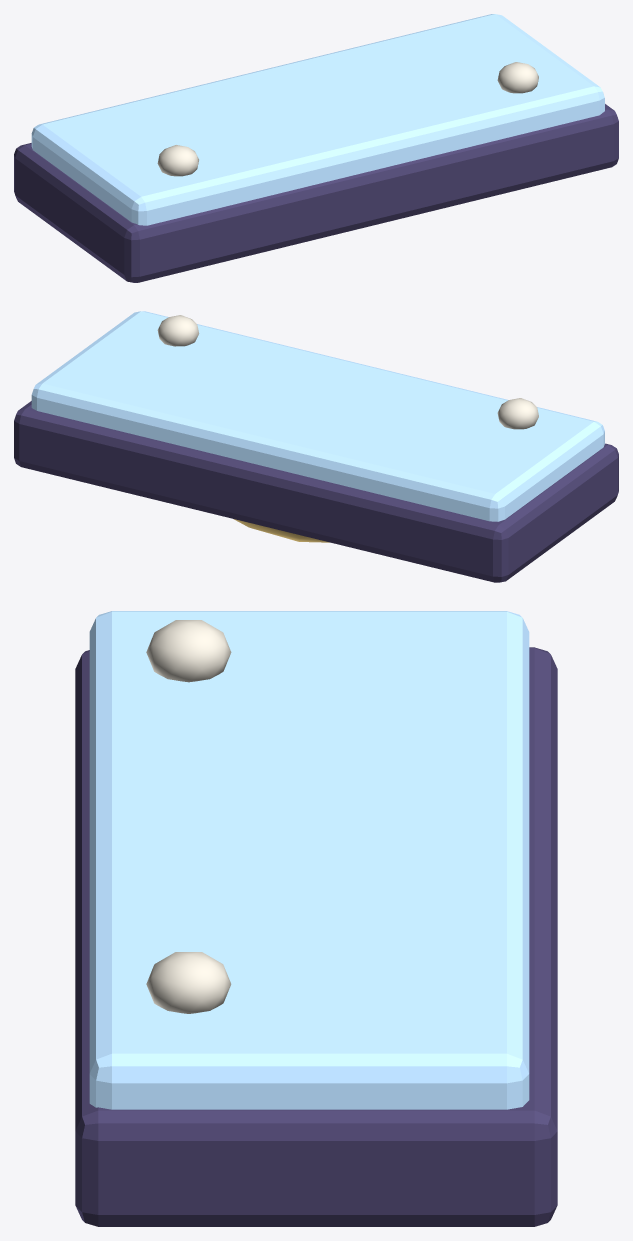
File: pearl_music_bar_5.glb
The picture shows the model from 3 angles, top to bottom: view 1: azimuth 30°, elevation 25°; view 2: azimuth 150°, elevation 25°; view 3: azimuth 270°, elevation 25°; orthographic projection. The views are drawn at different scales.
Visible parts, largest first — view 1: pearl_music_bar_5.001; view 2: pearl_music_bar_5.001; view 3: pearl_music_bar_5.001.
Part boxes in pixels (x1,y1,x2,y2): pearl_music_bar_5.001: [14, 14, 618, 282]; pearl_music_bar_5.001: [14, 311, 618, 582]; pearl_music_bar_5.001: [75, 611, 557, 1226].
Size of the model in its own units: 6.43 by 1.7 by 2.72.
